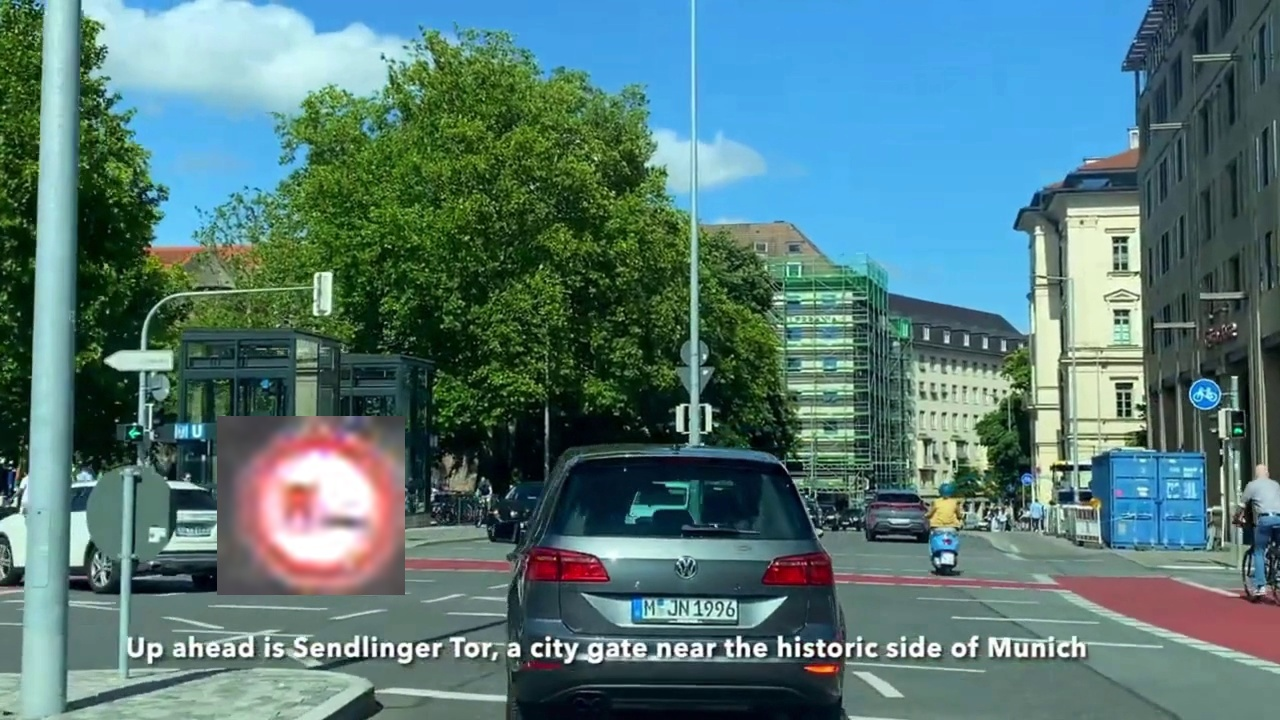No pass >3.5t: (217, 416, 405, 595)
